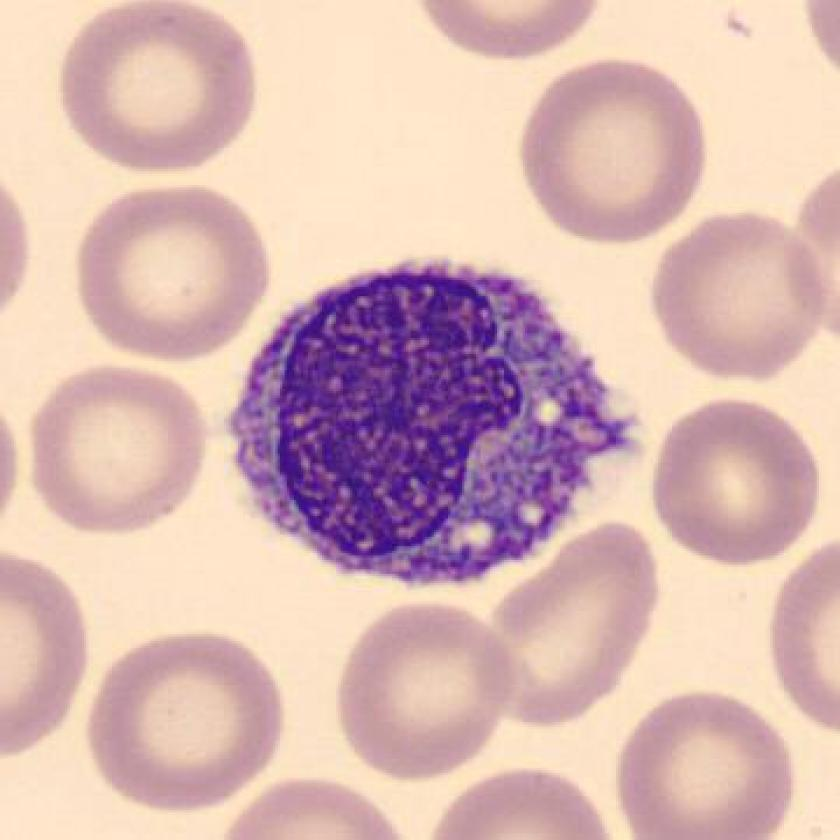monocyte: (209, 242, 659, 607)
